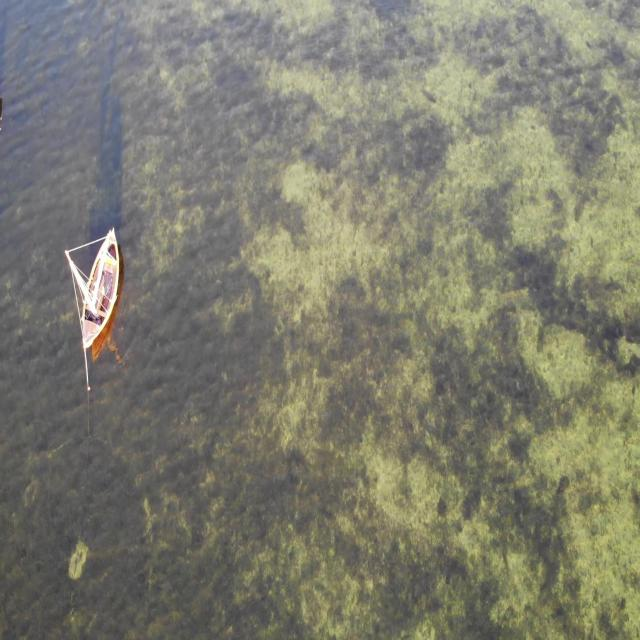sailboat: (63, 226, 121, 354)
